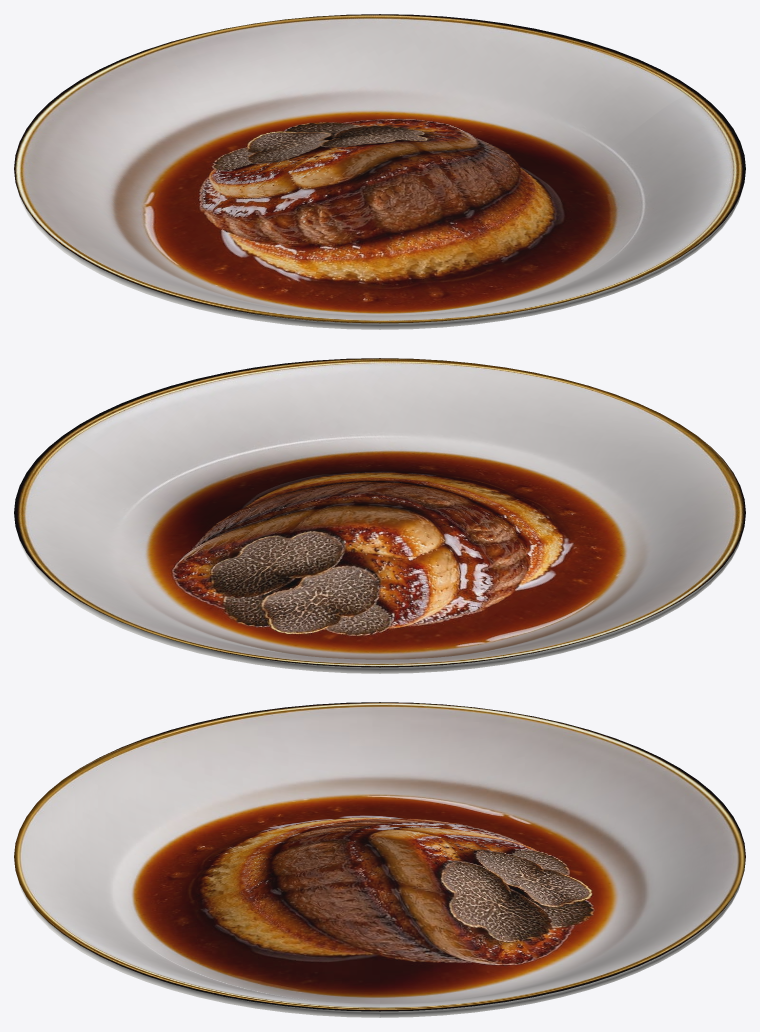
File: rossini.glb
3 renders of one model, top to bottom at view 1: azimuth 30°, elevation 25°; view 2: azimuth 150°, elevation 25°; view 3: azimuth 270°, elevation 25°, orthographic.
Parts seen in each view (by area): view 1: dish; view 2: dish; view 3: dish.
Boxes of the visible parts, <box> form: dish: <box>14,14,745,329</box>; dish: <box>14,358,745,673</box>; dish: <box>14,702,745,1017</box>.
Size of the model in its own units: 0.28 by 0.0275 by 0.28.
Materials: 2 (1 with a texture image).
